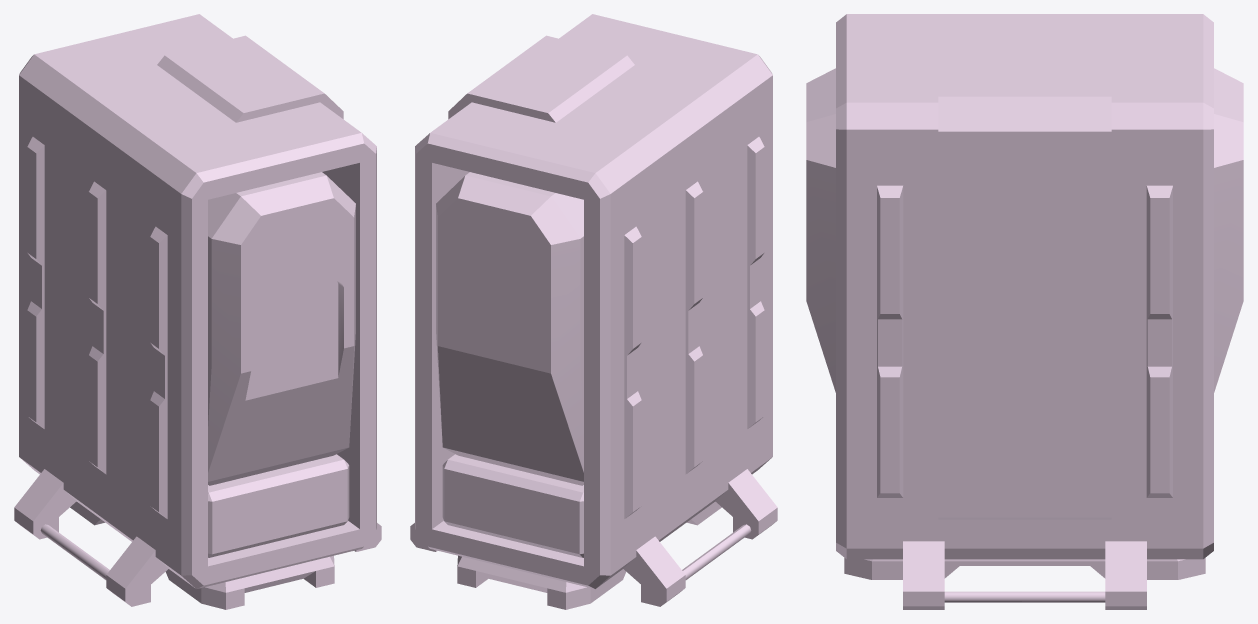
3 views of the same model, side by side, from view 1: azimuth 30°, elevation 25°; view 2: azimuth 150°, elevation 25°; view 3: azimuth 270°, elevation 25° (orthographic). The views are drawn at different scales.
Parts seen in each view (by area): view 1: Object002; view 2: Object002; view 3: Object002.
Boxes of the visible parts, box(x1,y1,x2,y2) form: Object002: box(14, 14, 381, 609); Object002: box(410, 14, 777, 609); Object002: box(806, 14, 1243, 609).
Size of the model in its own units: 121 by 204 by 163.
